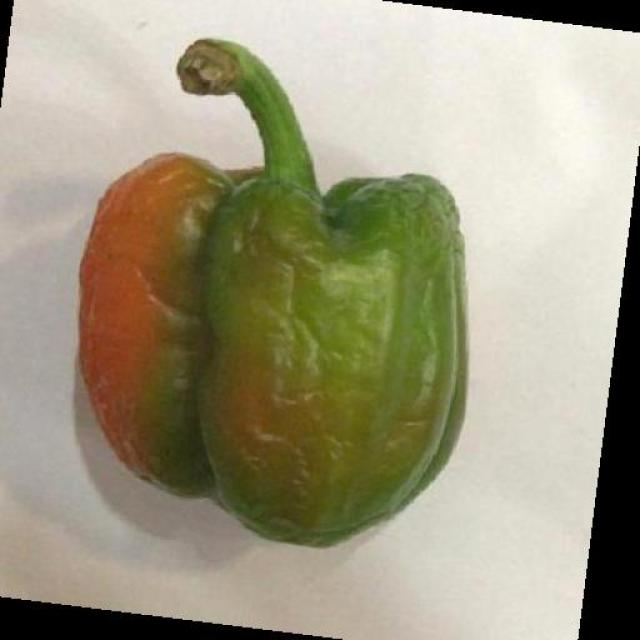Stale_Capsicum: (82, 102, 468, 546)
